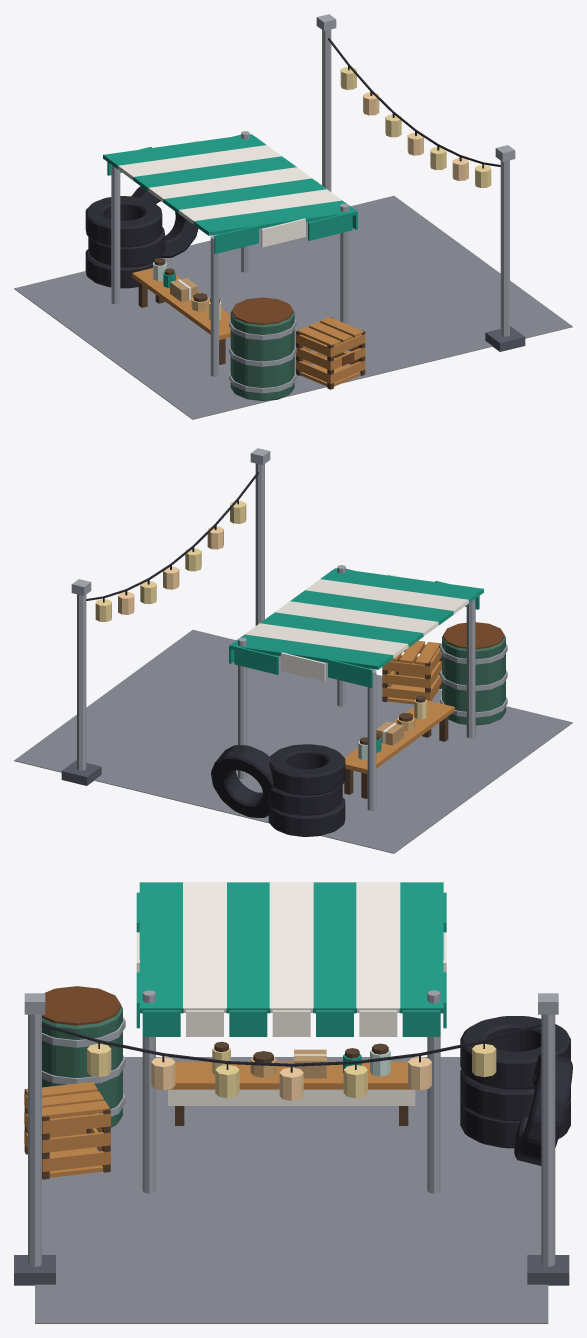
File: CatCafe_Camp_Sewer_Growth.glb
3 views of the same model, one above another, from view 1: azimuth 30°, elevation 25°; view 2: azimuth 150°, elevation 25°; view 3: azimuth 270°, elevation 25° (orthographic). The views are drawn at different scales.
Parts seen in each view (by area): view 1: CatCafe_Camp_Sewer_Growth, CatCafe_Camp_Sewer_Growth_000_Stall, CatCafe_Camp_Sewer_Growth_004_TyreStack, CatCafe_Camp_Sewer_Growth_002_Barrel, CatCafe_Camp_Sewer_Growth_001_Lanterns, CatCafe_Camp_Sewer_Growth_003_Crate, CatCafe_Camp_Sewer_Growth_001_Lanterns_Bulbs, CatCafe_Camp_Sewer_Growth_000_Stall_Decor, CatCafe_Camp_Sewer_Growth_001_Lanterns_Decor; view 2: CatCafe_Camp_Sewer_Growth, CatCafe_Camp_Sewer_Growth_000_Stall, CatCafe_Camp_Sewer_Growth_004_TyreStack, CatCafe_Camp_Sewer_Growth_002_Barrel, CatCafe_Camp_Sewer_Growth_001_Lanterns, CatCafe_Camp_Sewer_Growth_003_Crate, CatCafe_Camp_Sewer_Growth_001_Lanterns_Bulbs, CatCafe_Camp_Sewer_Growth_000_Stall_Decor, CatCafe_Camp_Sewer_Growth_001_Lanterns_Decor; view 3: CatCafe_Camp_Sewer_Growth, CatCafe_Camp_Sewer_Growth_000_Stall, CatCafe_Camp_Sewer_Growth_004_TyreStack, CatCafe_Camp_Sewer_Growth_001_Lanterns, CatCafe_Camp_Sewer_Growth_002_Barrel, CatCafe_Camp_Sewer_Growth_003_Crate, CatCafe_Camp_Sewer_Growth_001_Lanterns_Bulbs, CatCafe_Camp_Sewer_Growth_000_Stall_Decor, CatCafe_Camp_Sewer_Growth_001_Lanterns_Decor.
Boxes of the visible parts, x1,y1,x2,y2 form: CatCafe_Camp_Sewer_Growth: (14, 195, 572, 419); CatCafe_Camp_Sewer_Growth_000_Stall: (103, 131, 357, 376); CatCafe_Camp_Sewer_Growth_004_TyreStack: (85, 186, 198, 288); CatCafe_Camp_Sewer_Growth_002_Barrel: (229, 297, 296, 400); CatCafe_Camp_Sewer_Growth_001_Lanterns: (316, 14, 525, 351); CatCafe_Camp_Sewer_Growth_003_Crate: (296, 317, 365, 389); CatCafe_Camp_Sewer_Growth_001_Lanterns_Bulbs: (340, 67, 491, 187); CatCafe_Camp_Sewer_Growth_000_Stall_Decor: (153, 258, 221, 320); CatCafe_Camp_Sewer_Growth_001_Lanterns_Decor: (328, 38, 500, 168); CatCafe_Camp_Sewer_Growth: (14, 629, 572, 853); CatCafe_Camp_Sewer_Growth_000_Stall: (229, 565, 483, 810); CatCafe_Camp_Sewer_Growth_004_TyreStack: (211, 744, 345, 836); CatCafe_Camp_Sewer_Growth_002_Barrel: (440, 622, 507, 725); CatCafe_Camp_Sewer_Growth_001_Lanterns: (61, 448, 270, 785); CatCafe_Camp_Sewer_Growth_003_Crate: (382, 640, 441, 704); CatCafe_Camp_Sewer_Growth_001_Lanterns_Bulbs: (95, 501, 246, 621); CatCafe_Camp_Sewer_Growth_000_Stall_Decor: (358, 695, 426, 760); CatCafe_Camp_Sewer_Growth_001_Lanterns_Decor: (86, 472, 258, 602); CatCafe_Camp_Sewer_Growth: (35, 1057, 548, 1323); CatCafe_Camp_Sewer_Growth_000_Stall: (136, 882, 446, 1193); CatCafe_Camp_Sewer_Growth_004_TyreStack: (460, 1016, 572, 1165); CatCafe_Camp_Sewer_Growth_001_Lanterns: (14, 993, 569, 1285); CatCafe_Camp_Sewer_Growth_002_Barrel: (42, 986, 125, 1131); CatCafe_Camp_Sewer_Growth_003_Crate: (24, 1081, 110, 1179); CatCafe_Camp_Sewer_Growth_001_Lanterns_Bulbs: (87, 1044, 496, 1100); CatCafe_Camp_Sewer_Growth_000_Stall_Decor: (212, 1041, 390, 1078); CatCafe_Camp_Sewer_Growth_001_Lanterns_Decor: (41, 1023, 541, 1072).
Bounding box in the file's own units: 13.5 × 6.62 × 11.98.
1 material, 1 textured.
